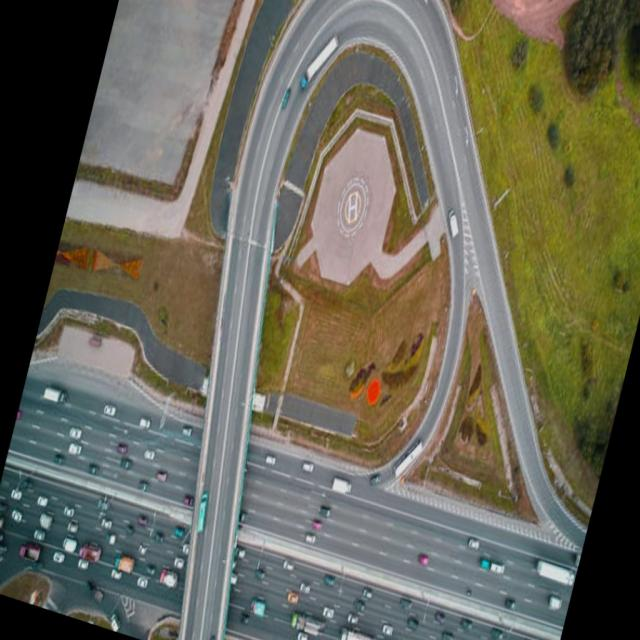helipad: (341, 189, 362, 224)
